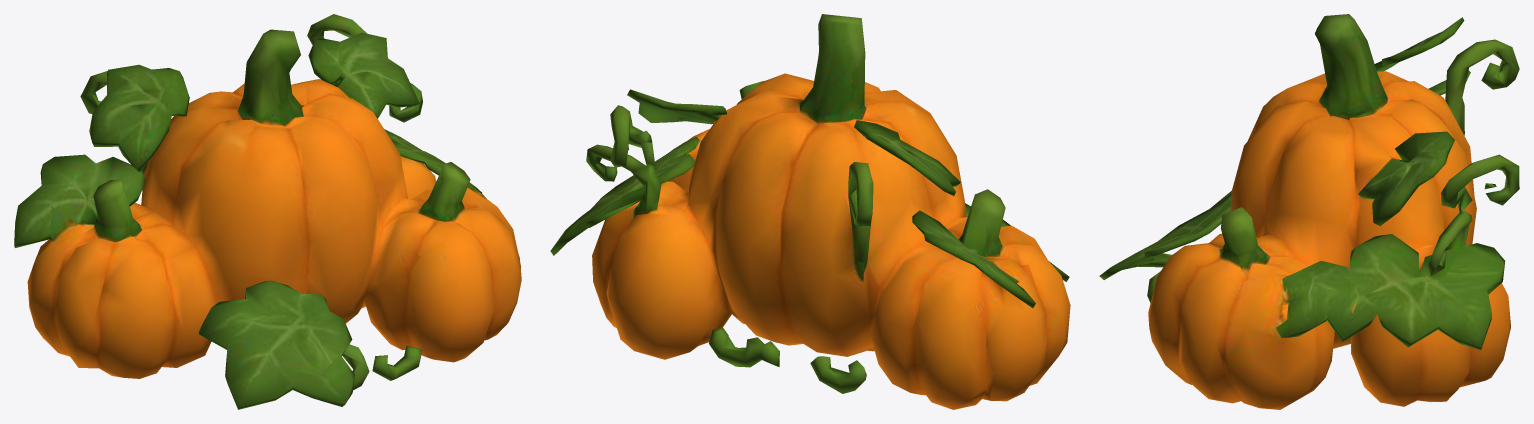
The model's file is pumpkins.glb.
The picture shows the model from 3 angles, left to right: view 1: azimuth 30°, elevation 25°; view 2: azimuth 150°, elevation 25°; view 3: azimuth 270°, elevation 25°; orthographic projection. The views are drawn at different scales.
Parts seen in each view (by area): view 1: model; view 2: model; view 3: model.
Part boxes in pixels (bbox=[...]): model: bbox=[14, 14, 521, 409]; model: bbox=[550, 14, 1070, 409]; model: bbox=[1099, 14, 1519, 409].
Bounding box in the file's own units: 1.91 × 1.28 × 1.57.
1 material, 1 textured.
